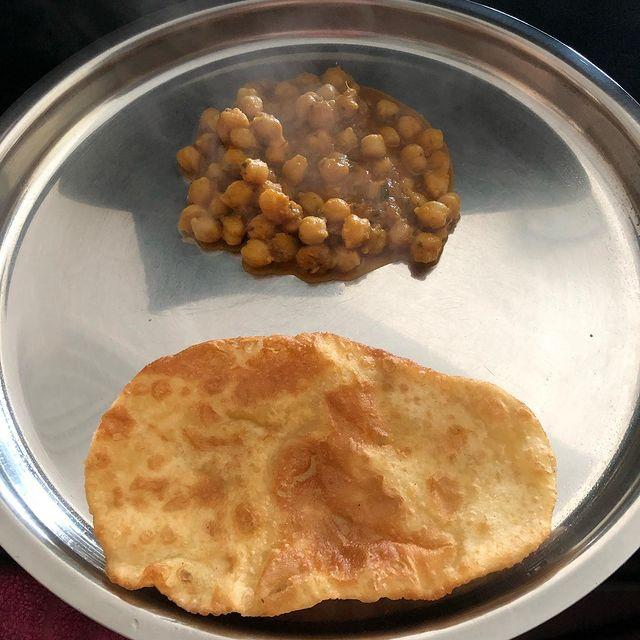Chole: (158, 54, 497, 289)
